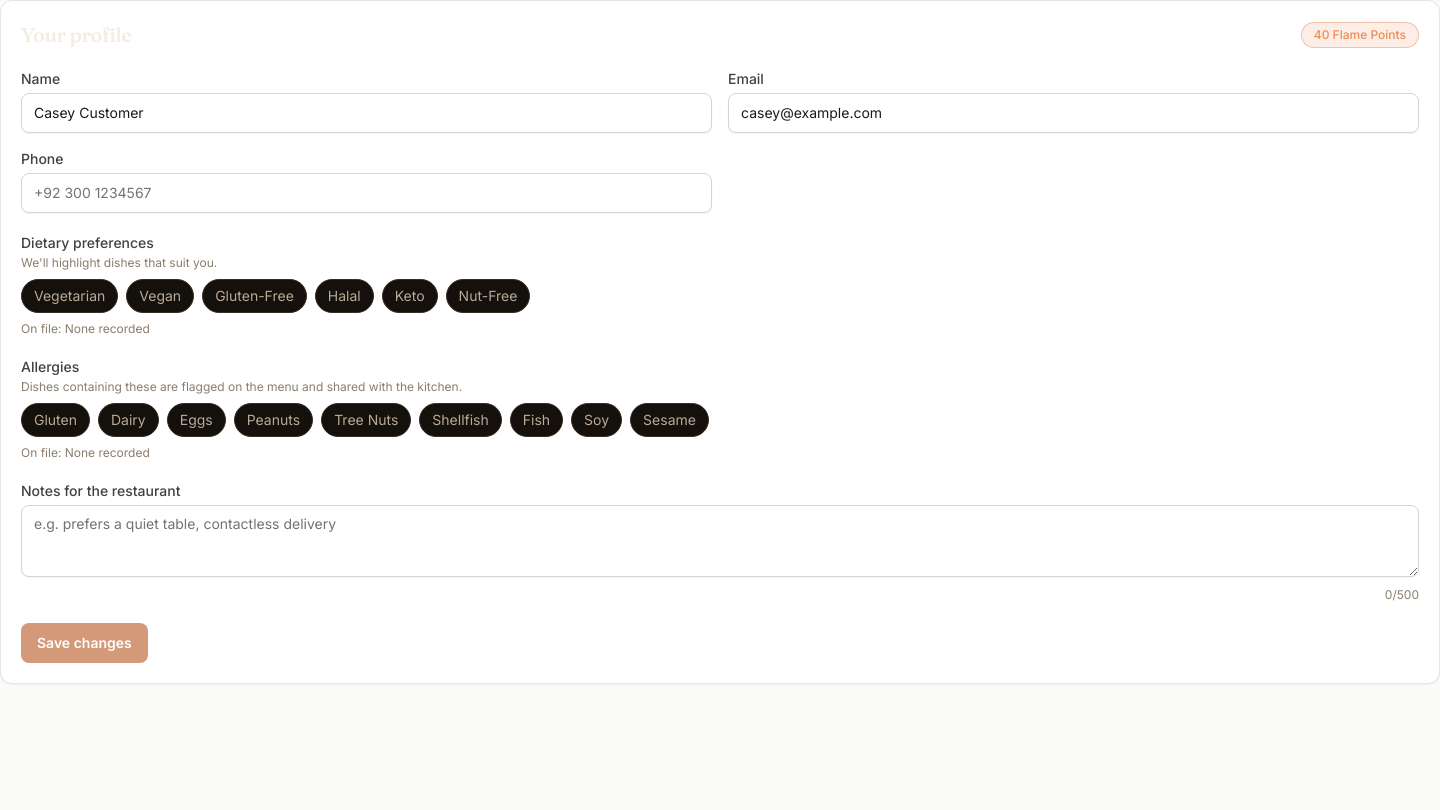
ProfileEditor › toggles an allergy preference chip
Click the checkbox labelled "peanuts".
click(273, 420)  # box [234,403,313,437]
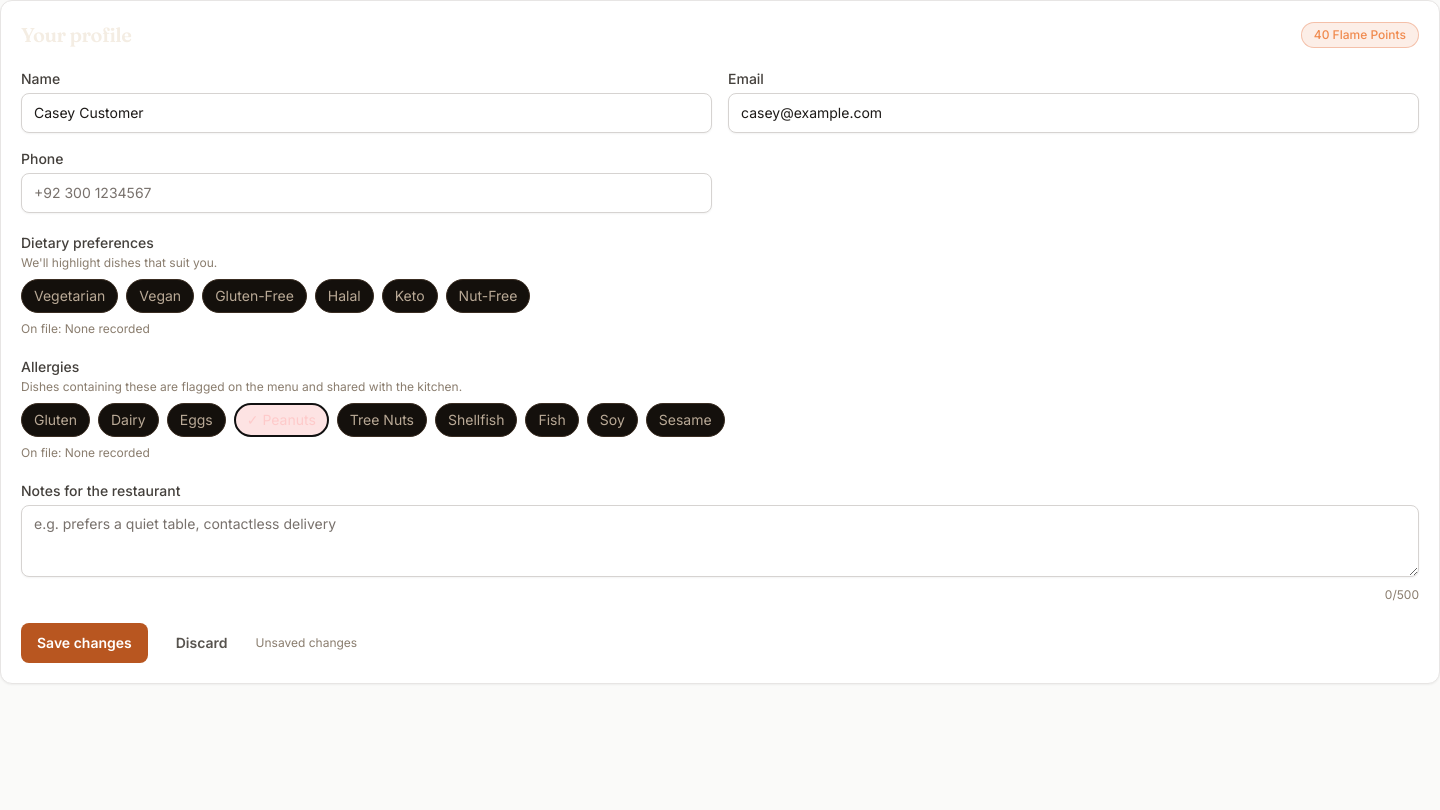
Now the text "Unsaved changes" is shown, box [256,635,357,651]
